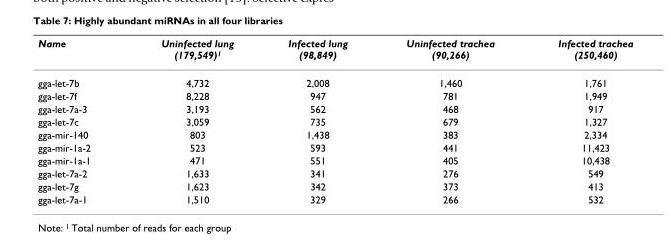table: (37, 36, 632, 205)
table column: (376, 36, 525, 205), (125, 36, 260, 205), (260, 36, 376, 205), (525, 36, 632, 205), (37, 36, 125, 205)
table column header: (37, 36, 632, 68)
table row: (37, 36, 632, 68), (37, 68, 632, 89), (37, 101, 632, 114), (37, 114, 632, 127), (37, 127, 632, 140), (37, 140, 632, 153), (37, 153, 632, 166), (37, 166, 632, 179), (37, 179, 632, 192), (37, 192, 632, 205), (37, 89, 632, 101)
